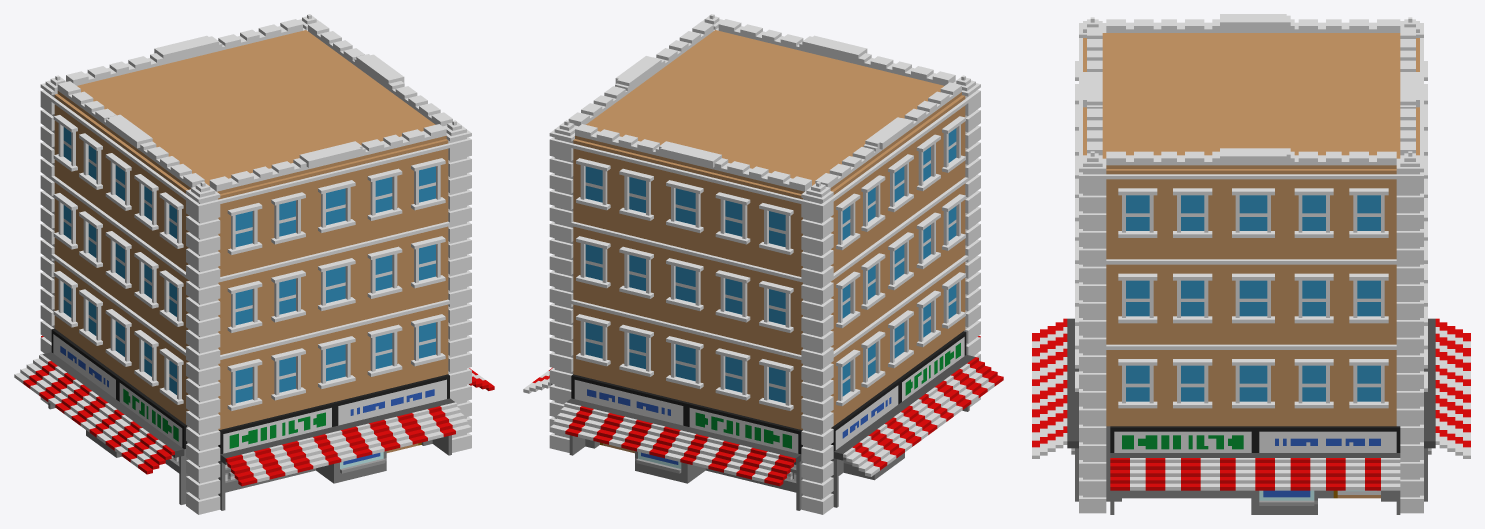
The model's file is obj_store04.obj.
The picture shows the model from 3 angles, left to right: view 1: azimuth 30°, elevation 25°; view 2: azimuth 150°, elevation 25°; view 3: azimuth 270°, elevation 25°; orthographic projection. The views are drawn at different scales.
Bounding box in the file's own units: 11.2 × 10 × 11.2.
Materials: 1 (1 with a texture image).
